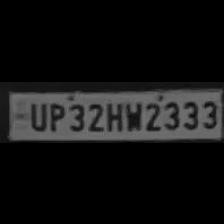2: (84, 98, 104, 130), (142, 98, 162, 130)
3: (66, 98, 86, 130), (160, 97, 180, 129), (200, 96, 218, 128), (180, 97, 198, 128)
H: (104, 98, 122, 130)
P: (46, 100, 64, 132)
U: (26, 98, 46, 130)
W: (122, 96, 142, 132)
